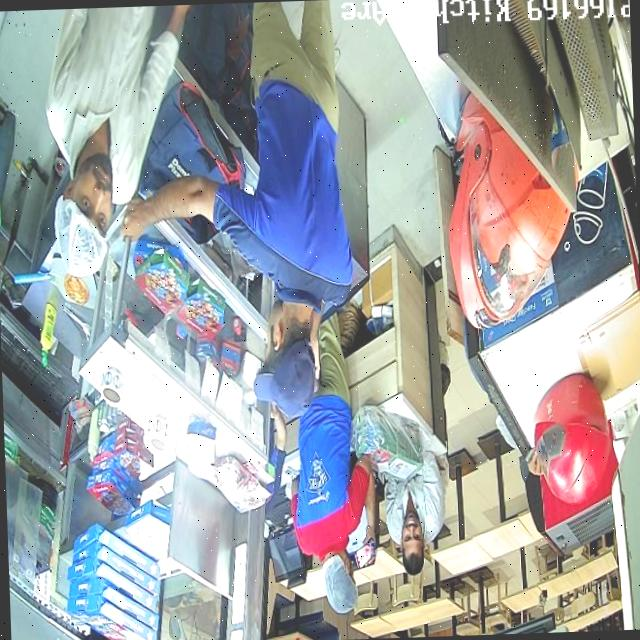helmet: (447, 101, 571, 333), (532, 372, 614, 507)
